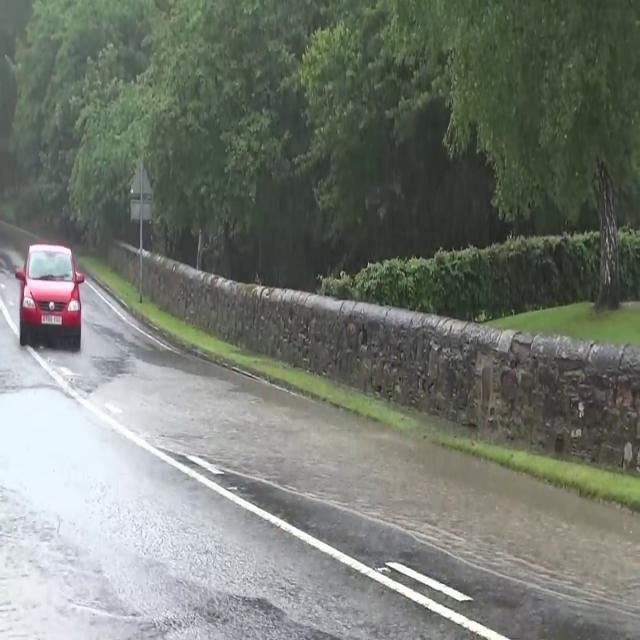license-plate-annotation: (38, 309, 67, 330)
